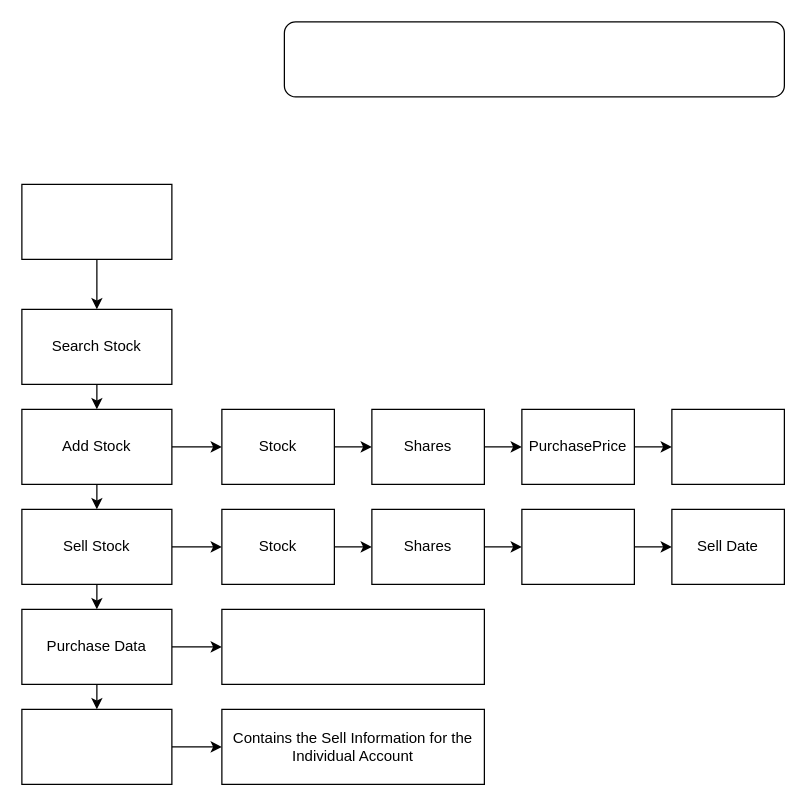
The diagram is 806 pixels wide and 806 high, and some of its shapes have lost their labels. The box of each missing label's shape, as (x1, y1, x2, y2) in pixels:
Account, Add Stock & Sell Stock Diagram: (283, 21, 784, 97)
Accounts: (21, 183, 172, 259)
Contains the Purchase Information for the Individual Account: (221, 608, 484, 684)
Purchase Date: (671, 408, 784, 484)
Sell Data: (21, 708, 172, 784)
Sell Price: (521, 508, 634, 584)
